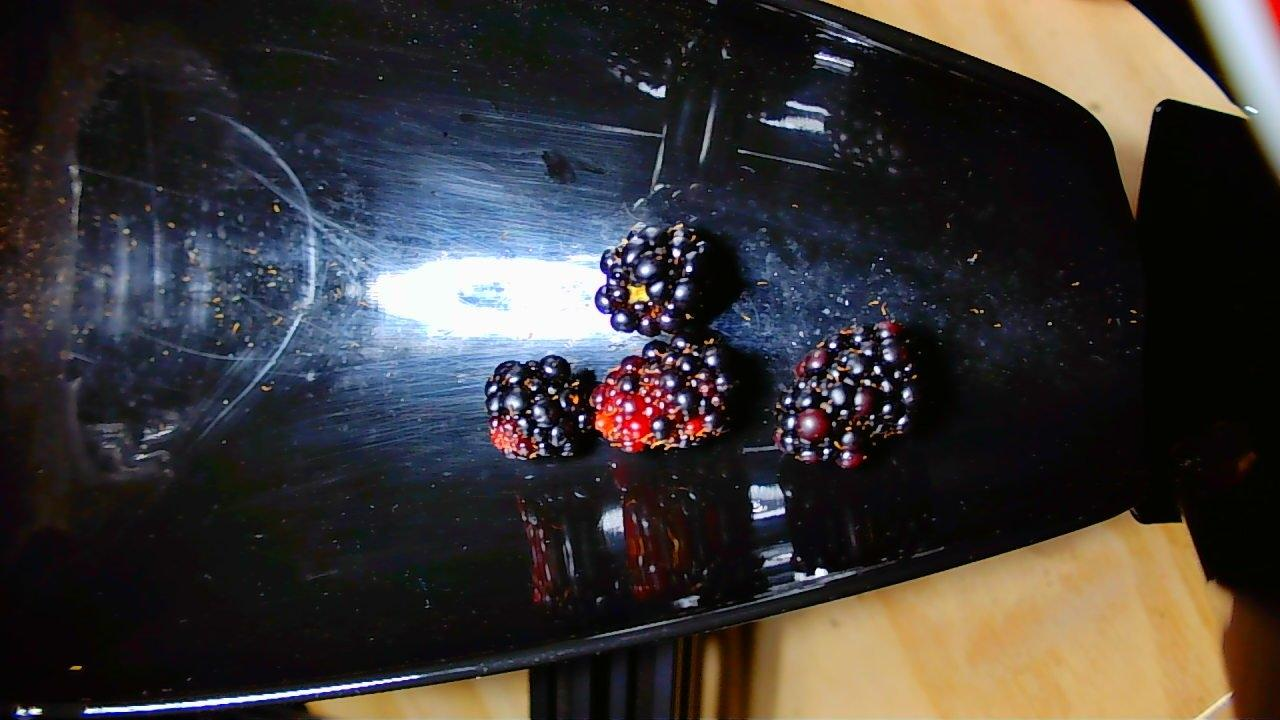berry: (772, 318, 917, 476), (598, 330, 732, 452), (594, 220, 713, 335), (486, 356, 598, 463)
